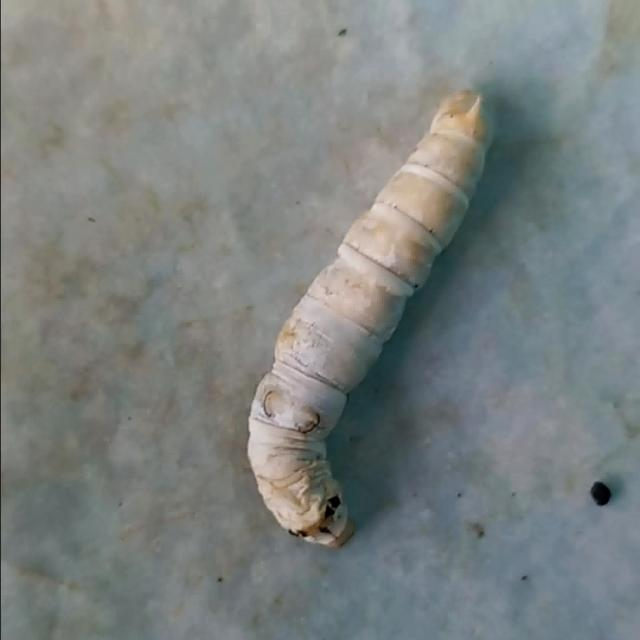Grasserie: (216, 61, 513, 561)
